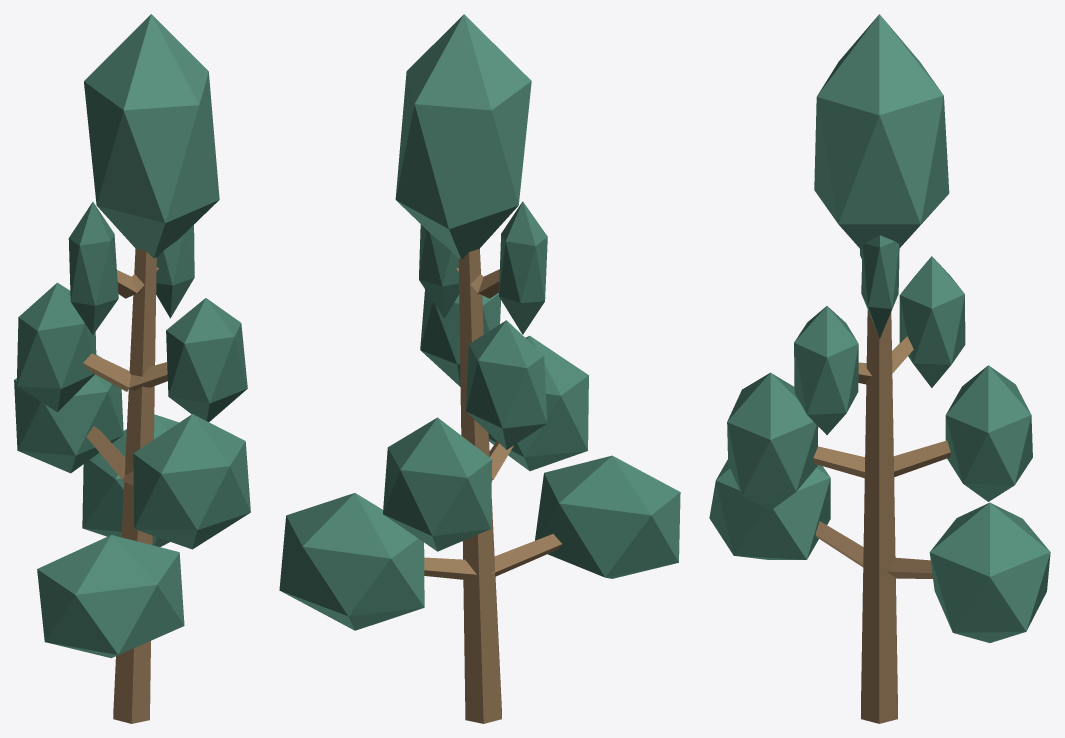
File: conifer_sapling_03.glb
3 views of the same model, side by side, from view 1: azimuth 30°, elevation 25°; view 2: azimuth 150°, elevation 25°; view 3: azimuth 270°, elevation 25° (orthographic).
Visible parts, largest first — view 1: Conifer_sapling_03; view 2: Conifer_sapling_03; view 3: Conifer_sapling_03.
Part boxes in pixels (x1,y1,x2,y2): Conifer_sapling_03: (14, 14, 250, 723); Conifer_sapling_03: (279, 14, 680, 723); Conifer_sapling_03: (709, 14, 1050, 723).
Bounding box in the file's own units: 1.01 × 2.37 × 1.03.
